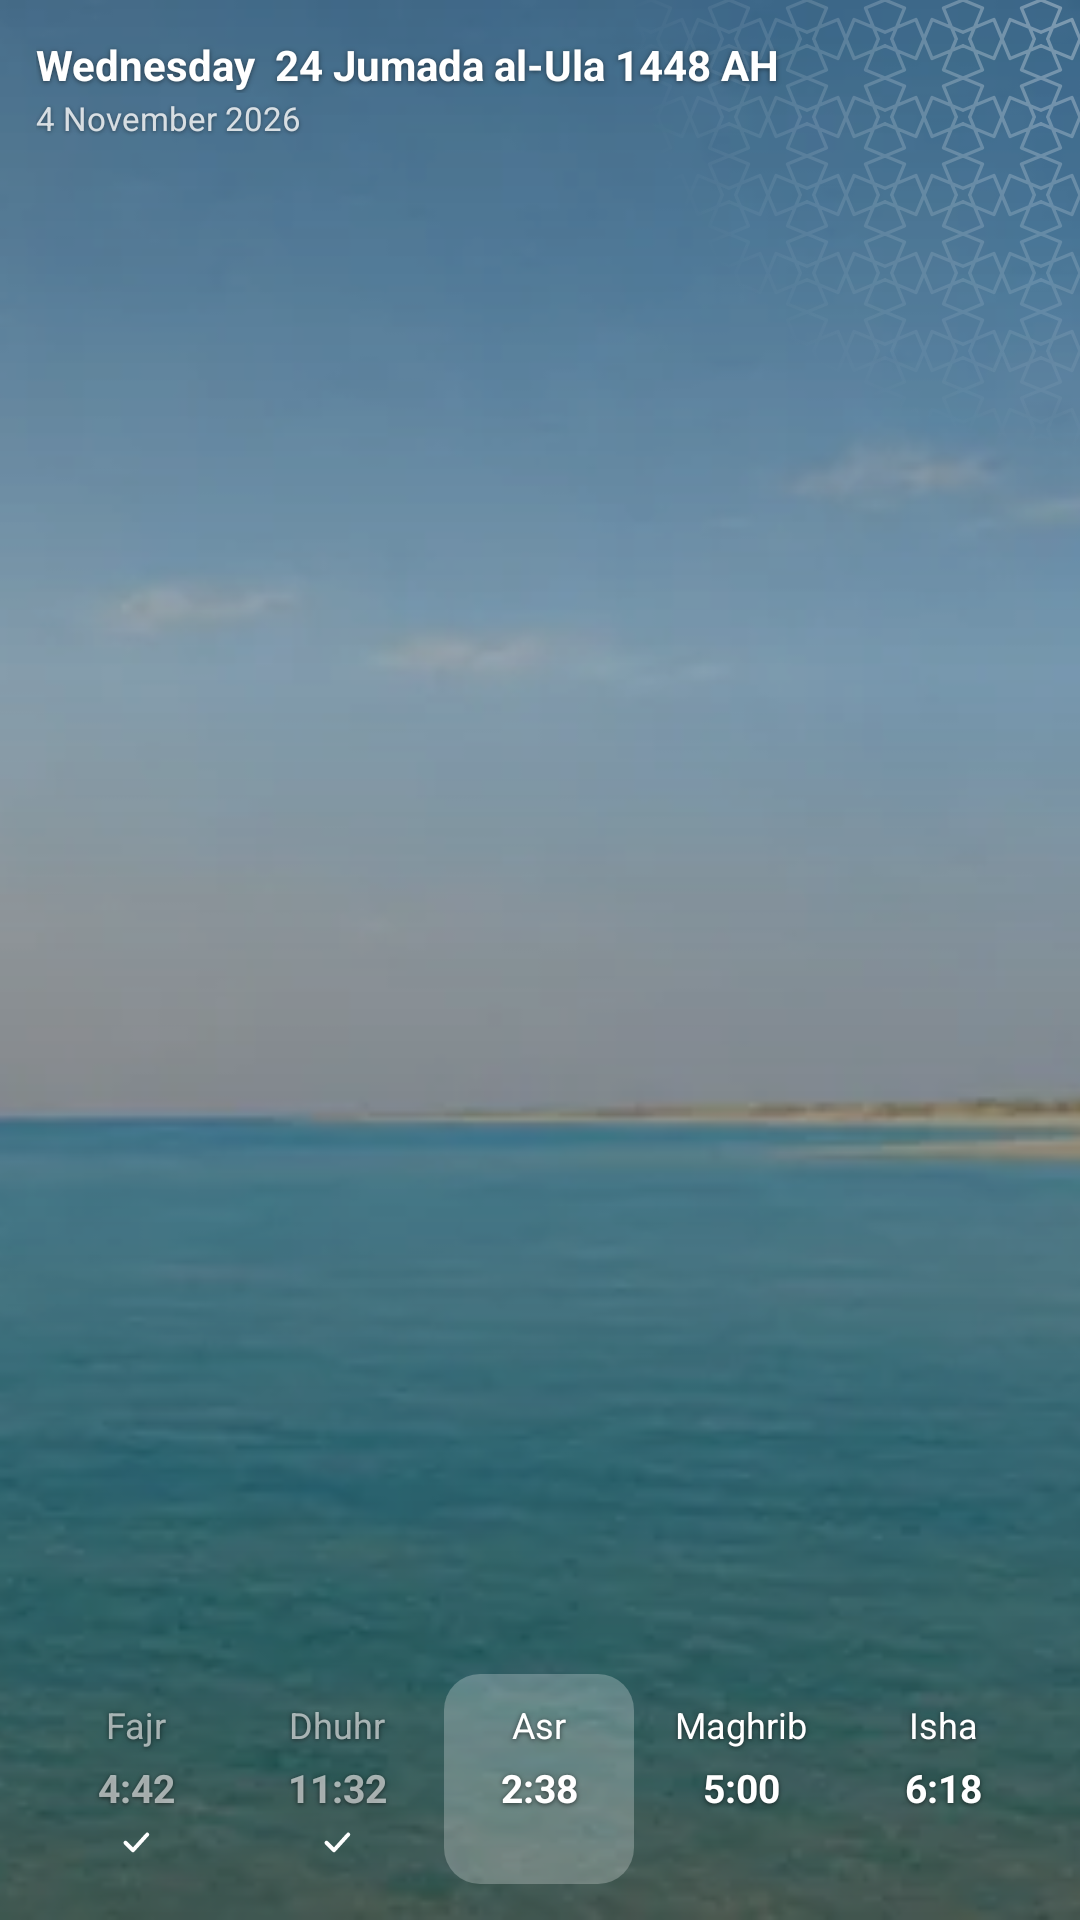

Icon bounding boxes for this 1080px×1920px phone screenshot, format detection(x1, y1, x2, y2):
widget check: detection(123, 1832, 150, 1853), detection(324, 1832, 351, 1853)
